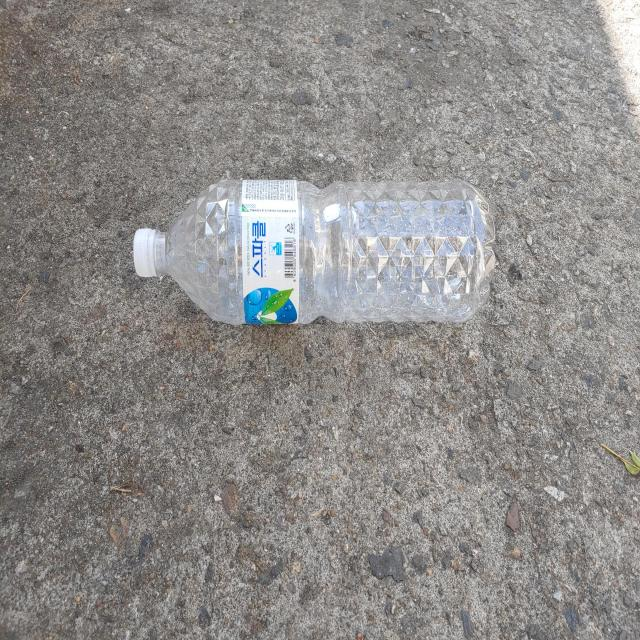plastic: (133, 179, 496, 325)
